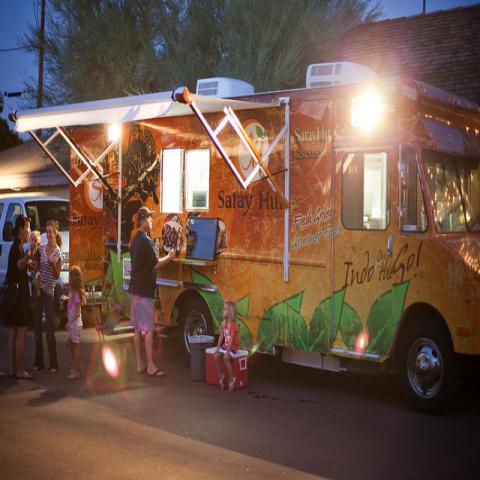car: (1, 194, 70, 310)
truck: (9, 62, 478, 413)
